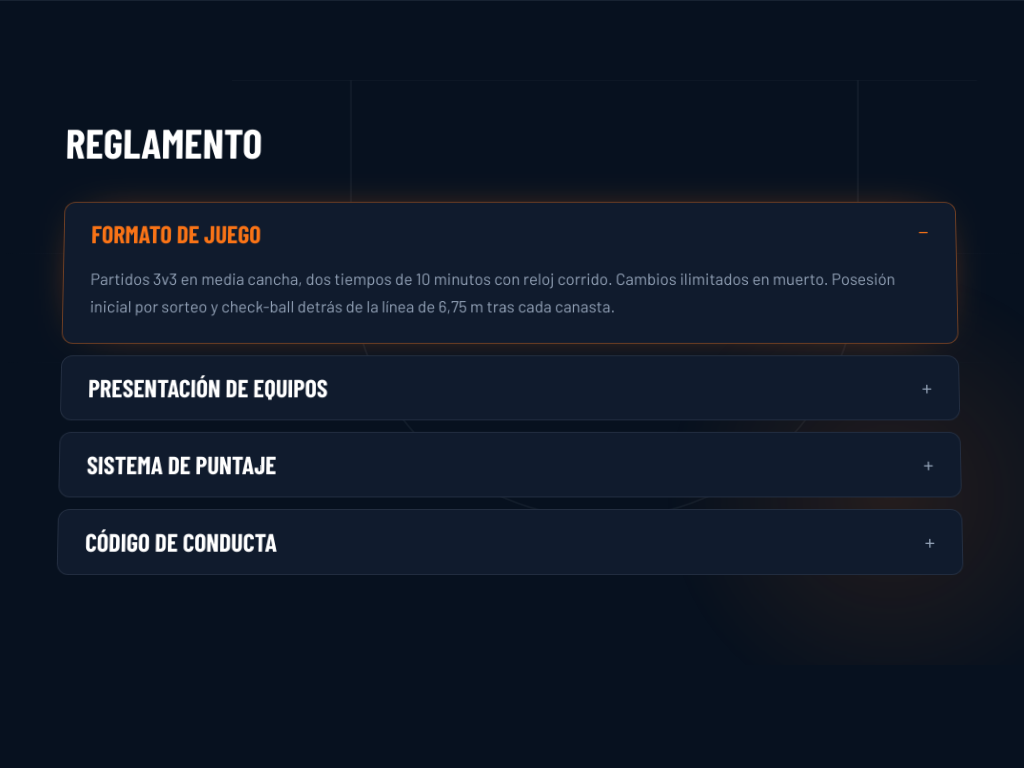
Test: Rules › permite tener varias reglas abiertas a la vez
Click the button "Presentación de equipos +" at (208, 387), box left=61, top=356, right=959, bottom=419
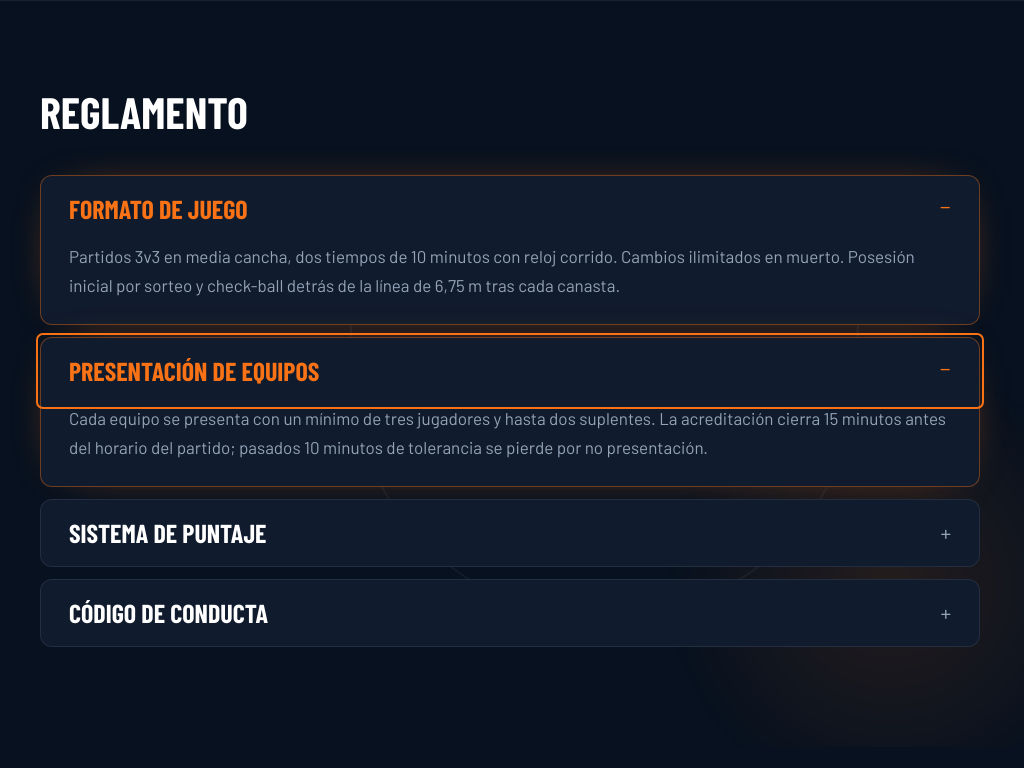
expect the button "Presentación de equipos −" is expanded: met, box left=41, top=338, right=979, bottom=404
